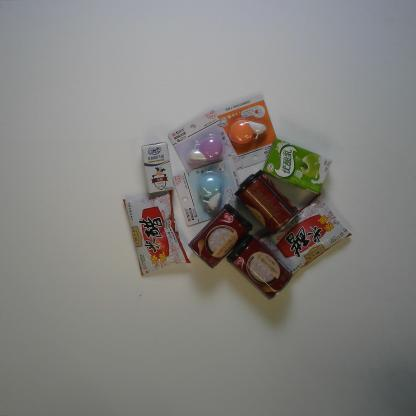Canned Food: (225, 233, 294, 302), (187, 203, 254, 271), (233, 168, 300, 235)
Milk: (261, 138, 333, 195), (140, 141, 174, 194)
Seasoner: (257, 191, 353, 277), (122, 190, 192, 277)
Stationery: (214, 94, 278, 171), (172, 157, 242, 227), (167, 109, 243, 171)
